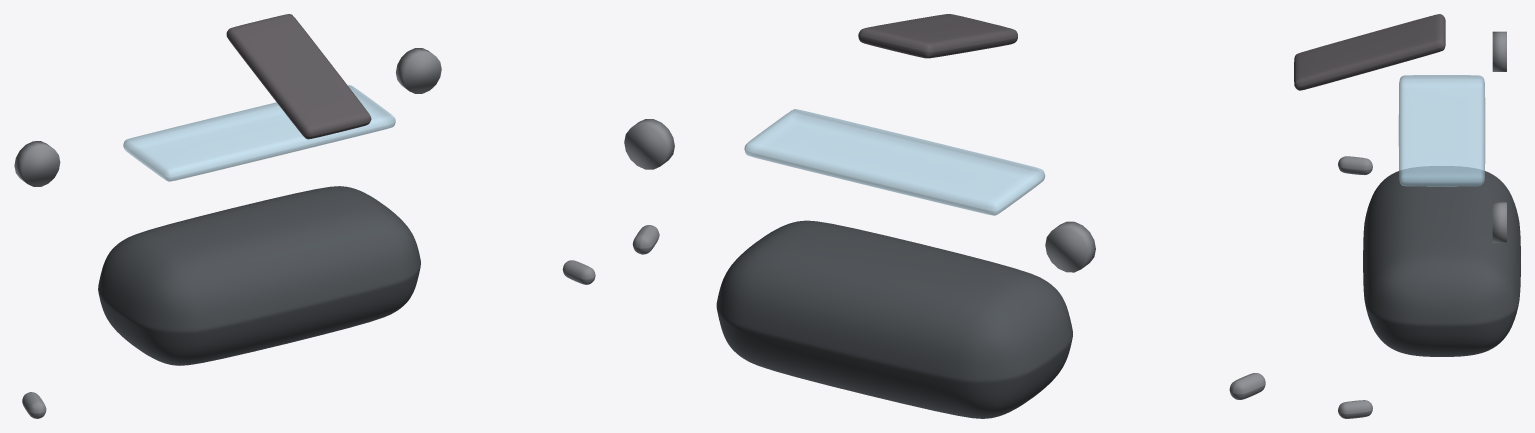
The model's file is mr-headset.glb.
3 views of the same model, side by side, from view 1: azimuth 30°, elevation 25°; view 2: azimuth 150°, elevation 25°; view 3: azimuth 270°, elevation 25° (orthographic). The views are drawn at different scales.
Parts seen in each view (by area): view 1: MRHeadset; view 2: MRHeadset; view 3: MRHeadset.
Part boxes in pixels (x1,y1,x2,y2): MRHeadset: [14, 14, 595, 418]; MRHeadset: [624, 14, 1265, 418]; MRHeadset: [1294, 14, 1520, 418].
Size of the model in its own units: 0.4151 by 0.2194 by 0.1574.
